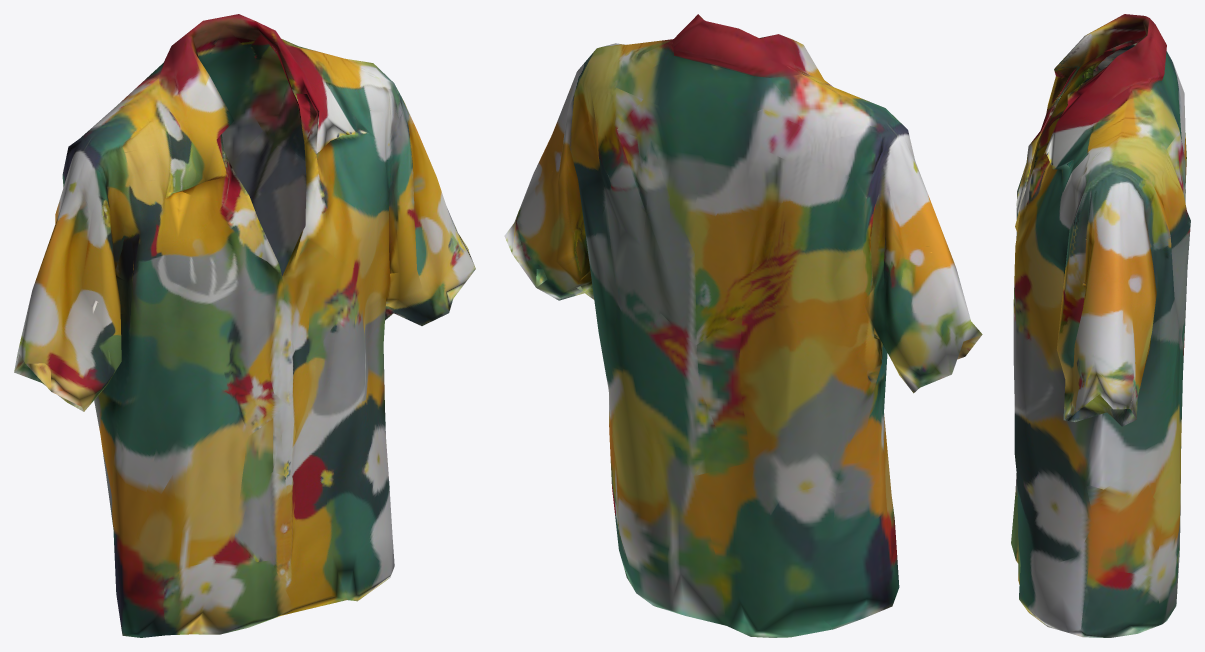
Rendered from Floral_Fiesta_Shirt_0407212446_texture.glb.
3 views of the same model, side by side, from view 1: azimuth 30°, elevation 25°; view 2: azimuth 150°, elevation 25°; view 3: azimuth 270°, elevation 25° (orthographic). The views are drawn at different scales.
Bounding box in the file's own units: 1.48 × 1.8 × 0.514.
1 material, 1 textured.
